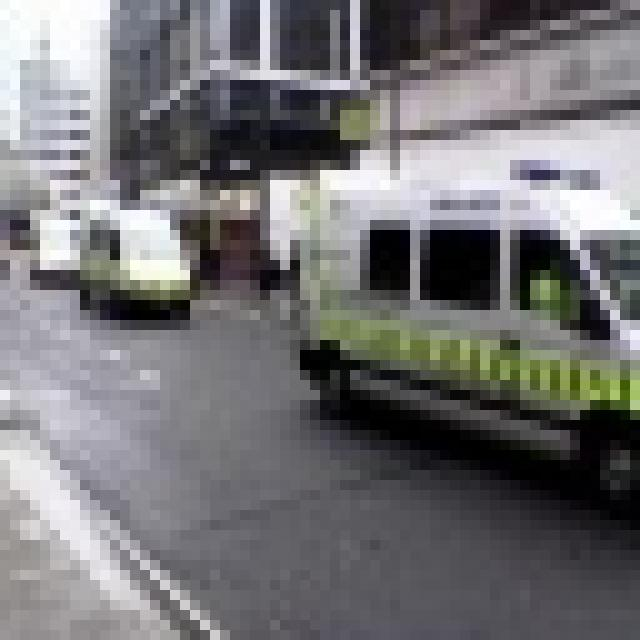Ambulance: (280, 150, 630, 510)
